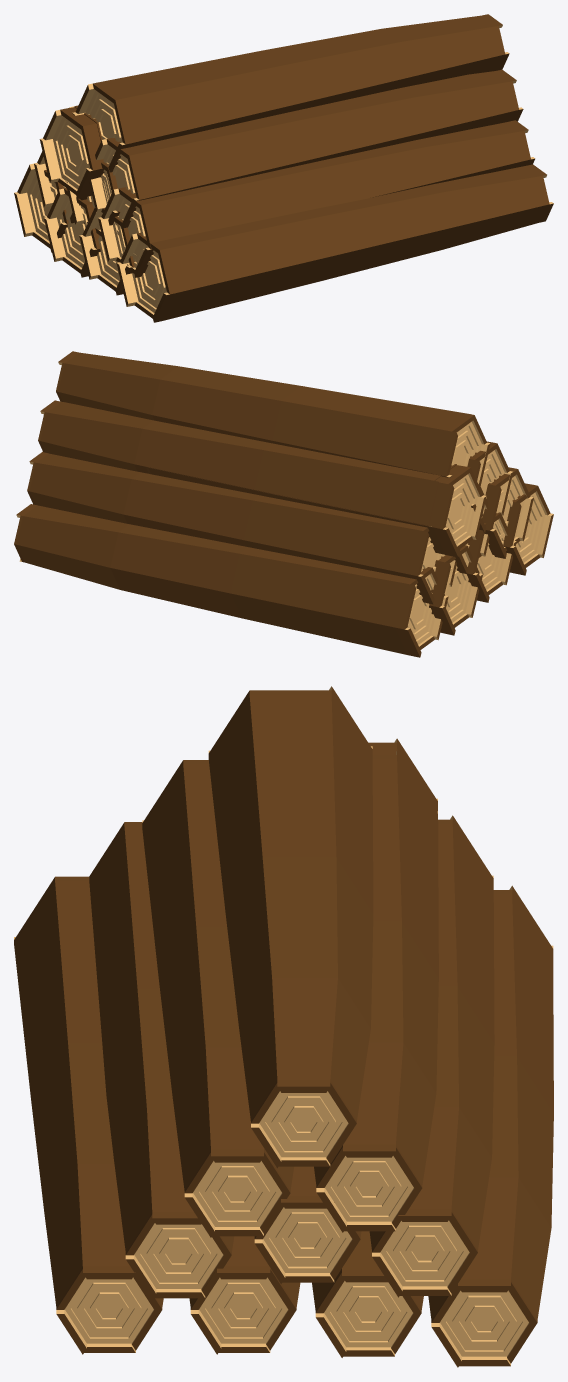
Rendered from TRONCO01.fbx.
3 renders of one model, top to bottom at view 1: azimuth 30°, elevation 25°; view 2: azimuth 150°, elevation 25°; view 3: azimuth 270°, elevation 25°, orthographic. The views are drawn at different scales.
Parts seen in each view (by area): view 1: Circle.011, Circle.028, Circle.025, Circle.013, Circle.027, Circle.014, Circle.022, Circle.012, Circle.023, Circle.024; view 2: Circle.022, Circle.028, Circle.024, Circle.026, Circle.027, Circle.014, Circle.011, Circle.013, Circle.012, Circle.025, Circle.023; view 3: Circle.028, Circle.011, Circle.025, Circle.026, Circle.022, Circle.013, Circle.024, Circle.012, Circle.014, Circle.023, Circle.027.
Boxes of the visible parts, x1=… form: Circle.011: x1=116, y1=164, x2=553, y2=322; Circle.028: x1=72, y1=14, x2=509, y2=172; Circle.025: x1=86, y1=69, x2=523, y2=228; Circle.013: x1=98, y1=120, x2=535, y2=277; Circle.027: x1=39, y1=107, x2=103, y2=198; Circle.014: x1=44, y1=188, x2=100, y2=277; Circle.022: x1=14, y1=163, x2=68, y2=252; Circle.012: x1=79, y1=208, x2=135, y2=295; Circle.023: x1=65, y1=162, x2=119, y2=240; Circle.024: x1=34, y1=151, x2=87, y2=223; Circle.022: x1=14, y1=504, x2=448, y2=657; Circle.028: x1=56, y1=351, x2=490, y2=485; Circle.024: x1=27, y1=451, x2=460, y2=604; Circle.026: x1=38, y1=400, x2=456, y2=526; Circle.027: x1=146, y1=465, x2=486, y2=557; Circle.014: x1=429, y1=545, x2=482, y2=635; Circle.011: x1=502, y1=483, x2=553, y2=575; Circle.013: x1=482, y1=467, x2=533, y2=558; Circle.012: x1=466, y1=512, x2=516, y2=602; Circle.025: x1=467, y1=441, x2=513, y2=533; Circle.023: x1=454, y1=484, x2=489, y2=573; Circle.028: x1=208, y1=686, x2=373, y2=1168; Circle.011: x1=14, y1=876, x2=163, y2=1354; Circle.025: x1=142, y1=760, x2=293, y2=1237; Circle.026: x1=314, y1=751, x2=438, y2=1232; Circle.022: x1=428, y1=885, x2=553, y2=1367; Circle.013: x1=89, y1=822, x2=234, y2=1299; Circle.024: x1=369, y1=815, x2=494, y2=1297; Circle.012: x1=189, y1=1236, x2=300, y2=1354; Circle.014: x1=312, y1=1231, x2=423, y2=1357; Circle.023: x1=254, y1=1166, x2=361, y2=1283; Circle.027: x1=368, y1=738, x2=438, y2=965.
Size of the model in its own units: 1203 by 519 by 743.
